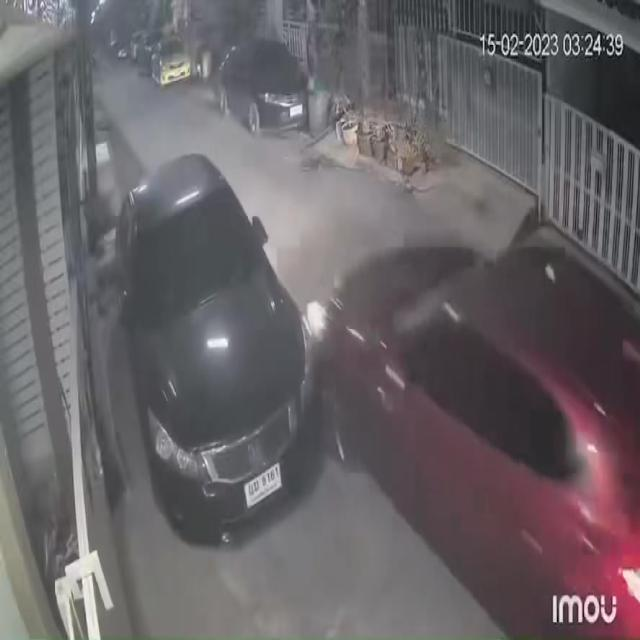multiple_accident: (102, 137, 639, 640)
